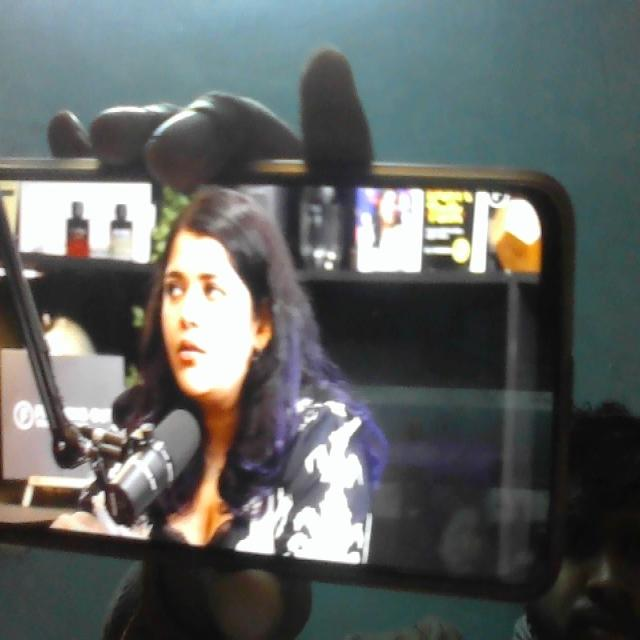fake: (148, 163, 280, 412)
